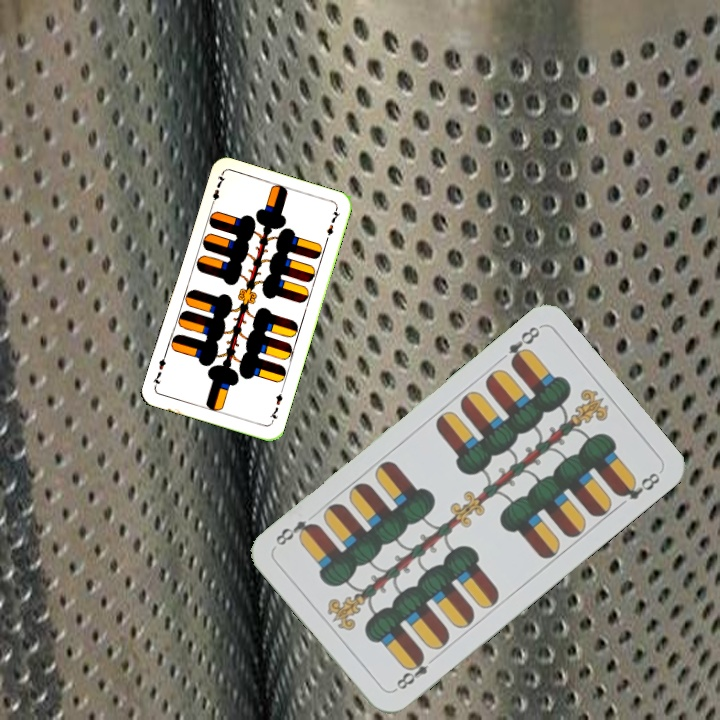E7: (207, 170, 228, 210), (266, 386, 285, 426)
E8: (504, 322, 543, 369), (390, 650, 431, 694)
